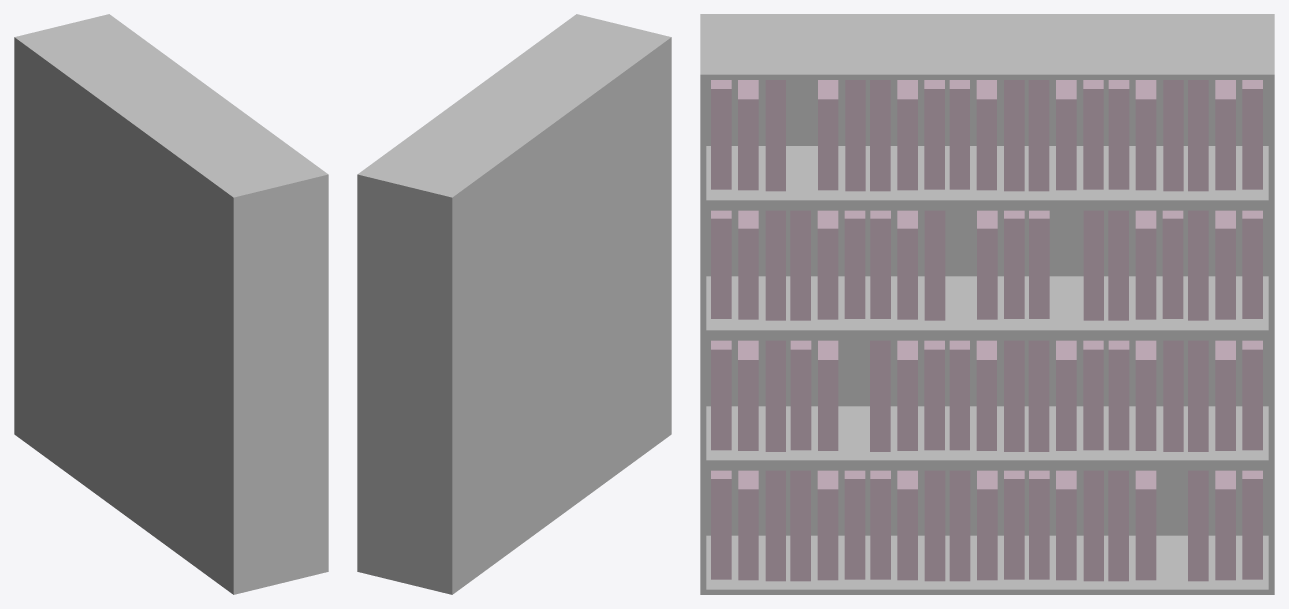
File: Bookshelf_NoCamera.fbx
The picture shows the model from 3 angles, left to right: view 1: azimuth 30°, elevation 25°; view 2: azimuth 150°, elevation 25°; view 3: azimuth 270°, elevation 25°; orthographic projection. The views are drawn at different scales.
Parts seen in each view (by area): view 1: shelf; view 2: shelf; view 3: books, shelf.
Part boxes in pixels (x1,y1,x2,y2): shelf: (14, 14, 328, 594); shelf: (357, 14, 671, 594); books: (711, 80, 1262, 581); shelf: (700, 14, 1274, 594).
Size of the model in its own units: 100 by 400 by 400.
